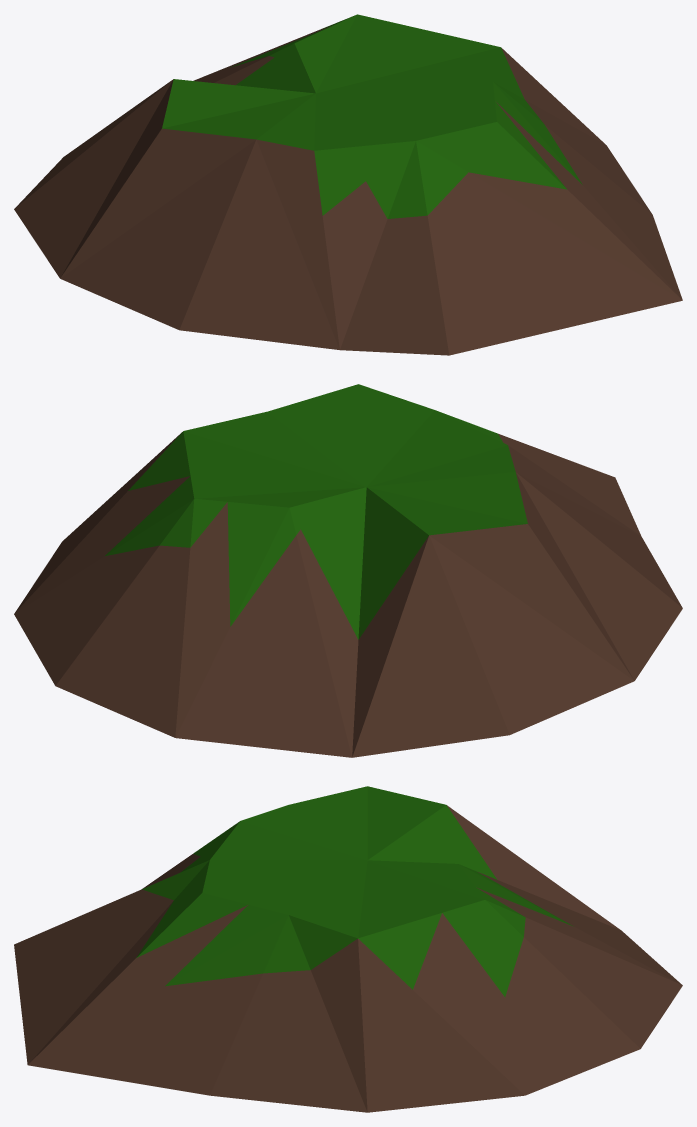
The model's file is Montaña para el bosque  .fbx.
The picture shows the model from 3 angles, top to bottom: view 1: azimuth 30°, elevation 25°; view 2: azimuth 150°, elevation 25°; view 3: azimuth 270°, elevation 25°; orthographic projection. The views are drawn at different scales.
Visible parts, largest first — view 1: group1104003827; view 2: group1104003827; view 3: group1104003827.
Part boxes in pixels (box(x1,y1,x2,y2)): group1104003827: box(14, 14, 682, 355); group1104003827: box(14, 384, 682, 757); group1104003827: box(14, 786, 682, 1112).
Size of the model in its own units: 883 by 222 by 981.
